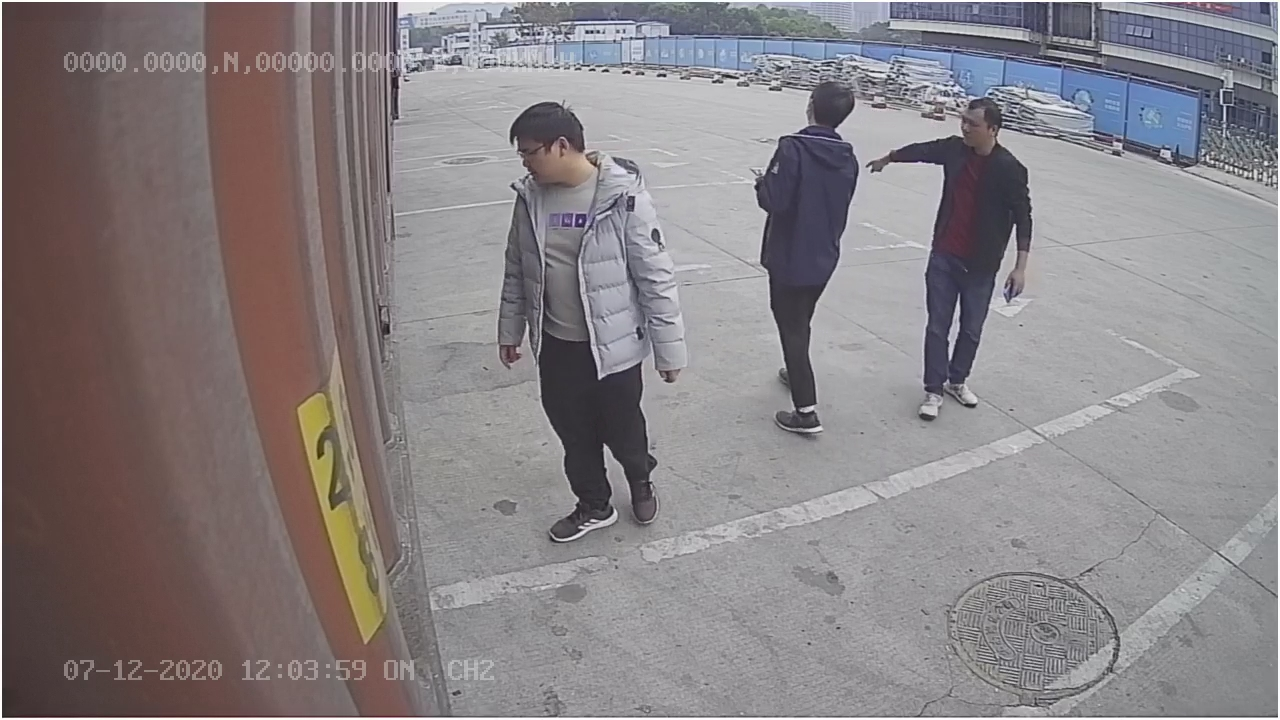person: (480, 106, 689, 546), (870, 81, 1035, 430), (744, 62, 858, 435)
